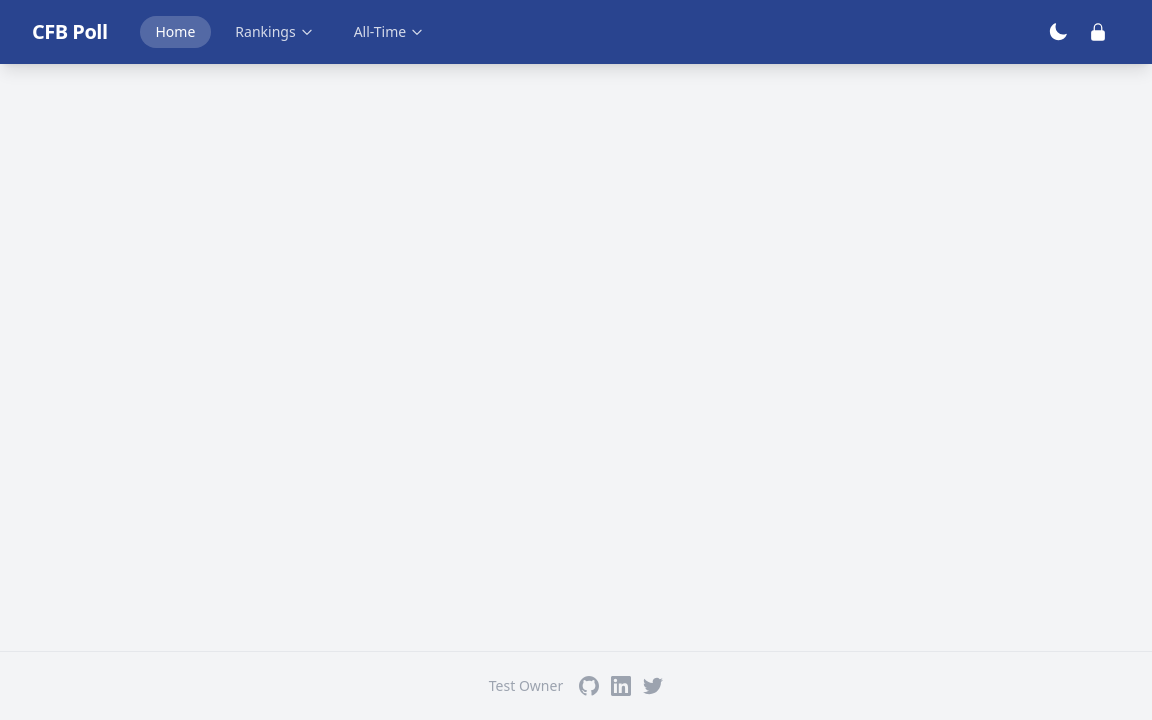
Layout › shows Leaders link in All-Time dropdown when pollLeadersEnabled
Click the button "All-Time".
click(389, 32)  # box [338,16,440,48]
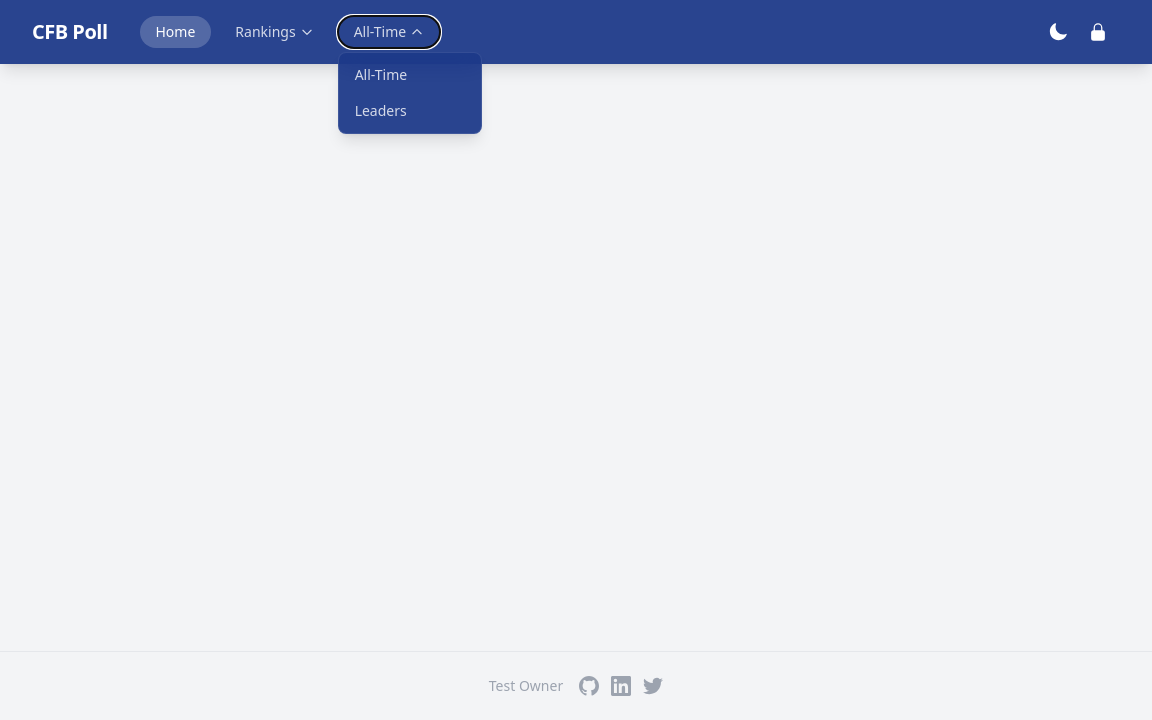
Now the link "Leaders" is shown, box [355,101,407,120]
